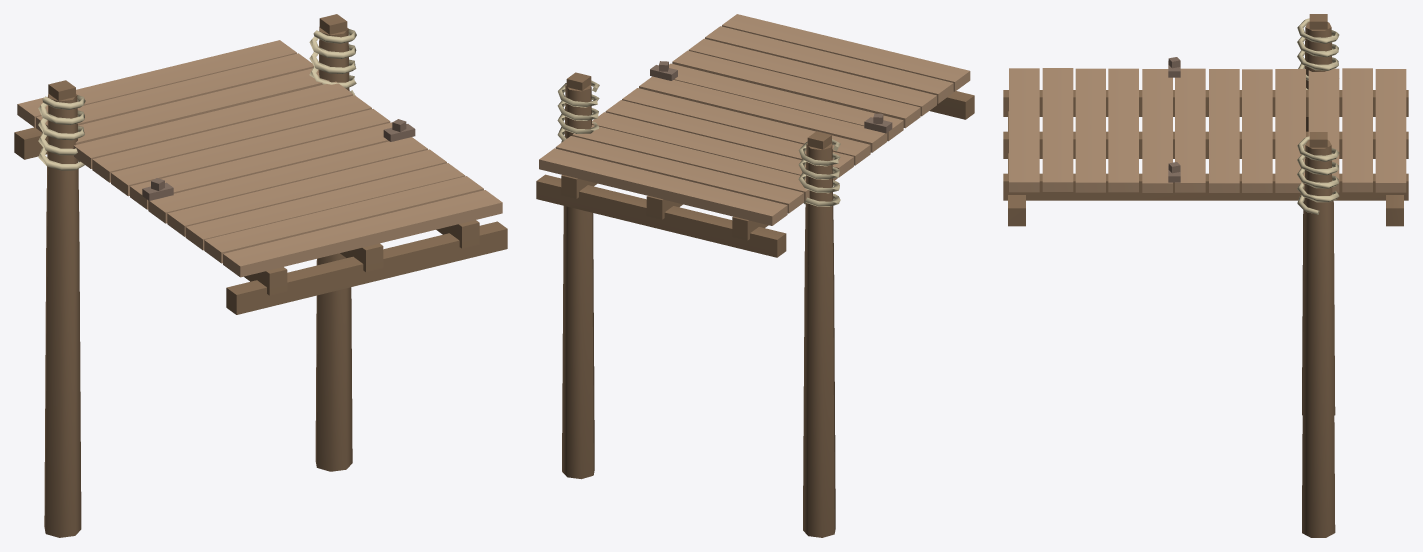
File: steg_modul.glb
The picture shows the model from 3 angles, left to right: view 1: azimuth 30°, elevation 25°; view 2: azimuth 150°, elevation 25°; view 3: azimuth 270°, elevation 25°; orthographic projection. The views are drawn at different scales.
Visible parts, largest first — view 1: G_steg_modul; view 2: G_steg_modul; view 3: G_steg_modul.
Part boxes in pixels (x1,y1,x2,y2): G_steg_modul: [14, 14, 507, 537]; G_steg_modul: [536, 14, 974, 537]; G_steg_modul: [1003, 14, 1408, 537].
Size of the model in its own units: 3.57 by 4.85 by 4.5.
